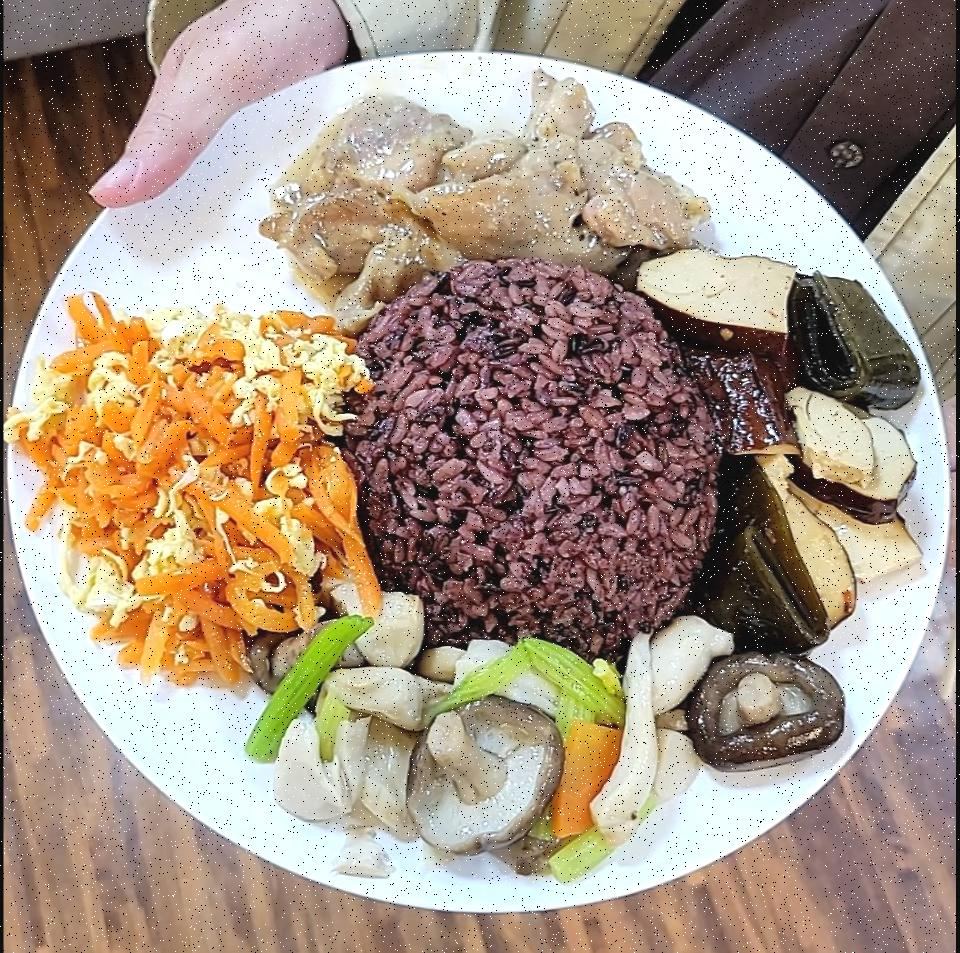big fried chicken leg: (8, 24, 956, 922)
braised fish: (346, 264, 713, 653)
braised fish fillet: (266, 592, 844, 880), (16, 294, 368, 685), (650, 222, 930, 647)
braised pork: (266, 66, 704, 300)
